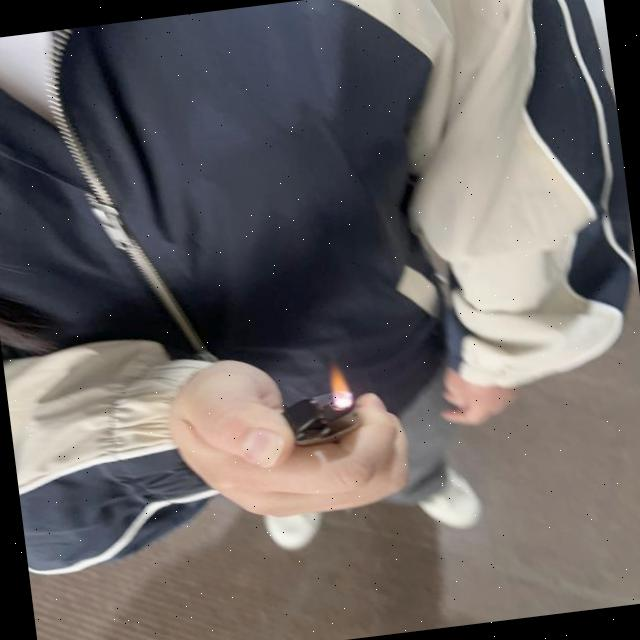fire: (324, 364, 356, 402)
